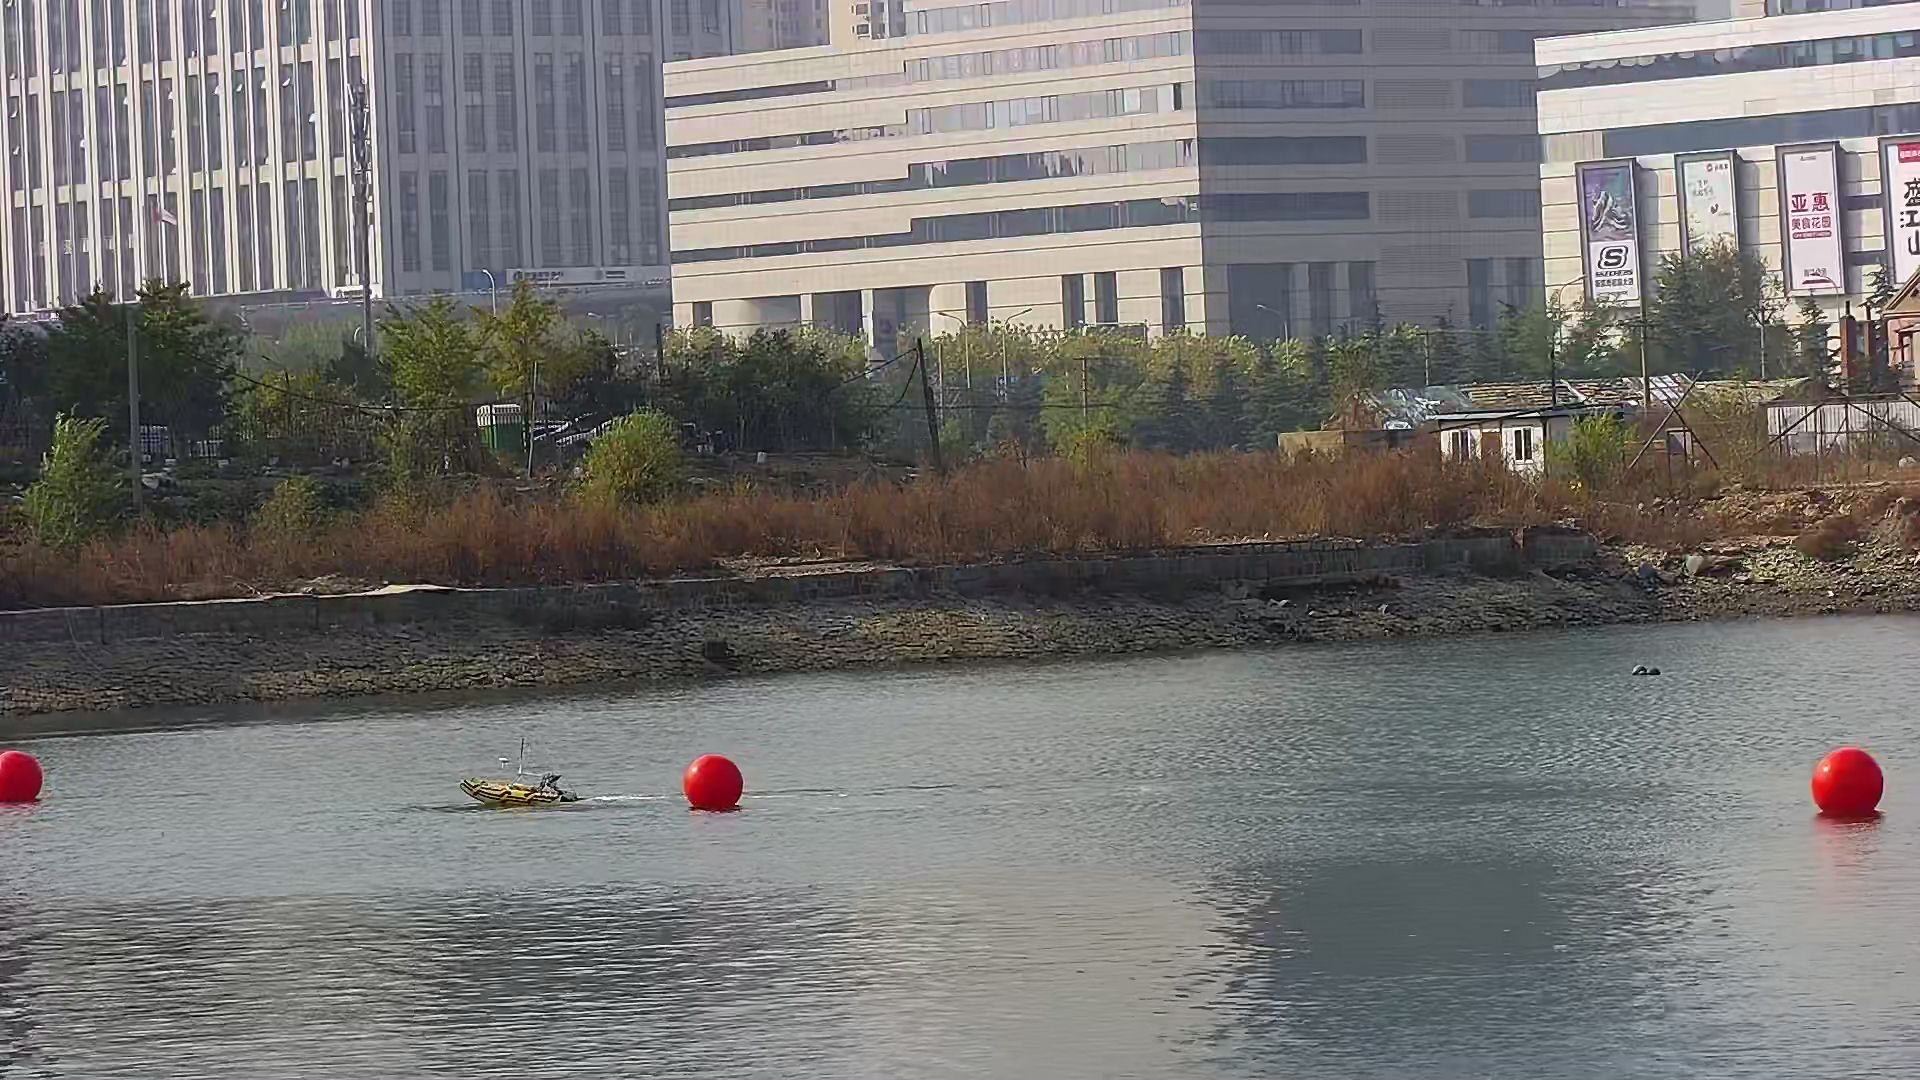ball: (1808, 746, 1888, 825), (683, 754, 750, 812), (1, 748, 47, 804)
boat: (454, 760, 580, 810)
rubbish: (1630, 659, 1664, 679)
